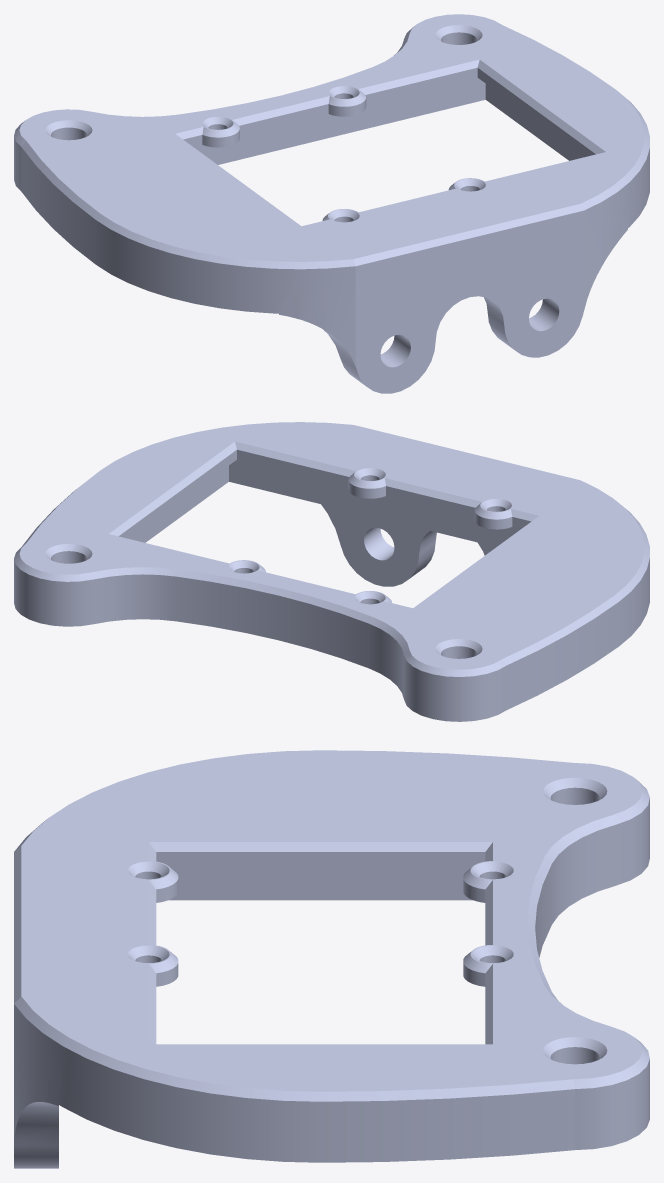
The picture shows the model from 3 angles, top to bottom: view 1: azimuth 30°, elevation 25°; view 2: azimuth 150°, elevation 25°; view 3: azimuth 270°, elevation 25°; orthographic projection. The views are drawn at different scales.
Visible parts, largest first — view 1: node0; view 2: node0; view 3: node0.
Boxes of the visible parts, x1=… form: node0: x1=14, y1=14, x2=649, y2=393; node0: x1=14, y1=422, x2=649, y2=721; node0: x1=14, y1=750, x2=649, y2=1168.
Bounding box in the file's own units: 0.055 × 0.0142 × 0.0425.
